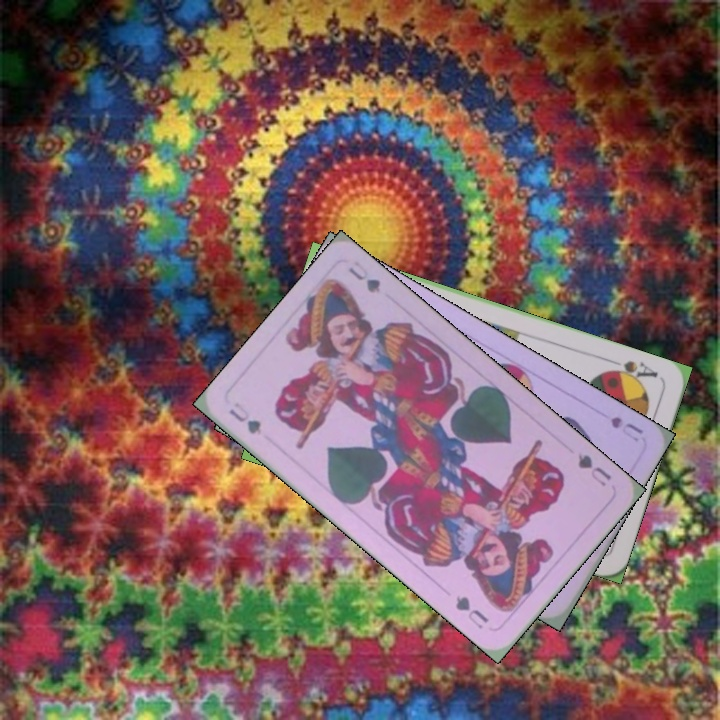GU: (573, 450, 614, 490), (225, 398, 264, 439)
SA: (601, 355, 661, 386)
SU: (606, 412, 646, 445)
